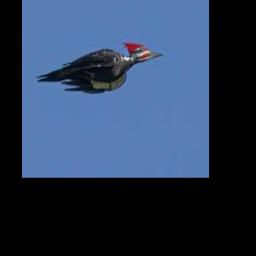Woodpecker: (36, 42, 163, 93)
